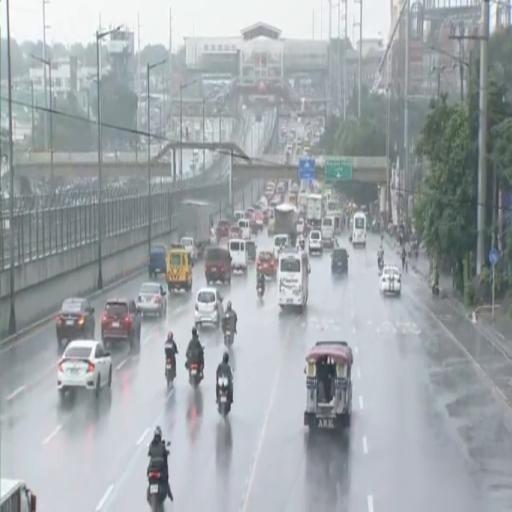bus: (278, 248, 310, 310), (0, 478, 36, 511), (352, 212, 366, 247)
car: (57, 340, 112, 397), (56, 298, 95, 348), (102, 299, 141, 347), (195, 287, 223, 327), (137, 282, 166, 316), (380, 266, 401, 296), (180, 237, 197, 262), (309, 230, 323, 254), (216, 219, 229, 239), (228, 226, 241, 239), (255, 211, 263, 231)
jeepney: (304, 342, 353, 429)
motorcycle: (147, 468, 167, 511), (148, 470, 166, 511), (218, 376, 231, 418), (189, 362, 202, 388), (223, 315, 233, 346), (165, 358, 175, 387), (257, 282, 264, 298), (432, 284, 439, 298), (378, 259, 383, 275)
truck: (179, 200, 211, 260), (274, 204, 298, 246), (306, 195, 323, 229)
